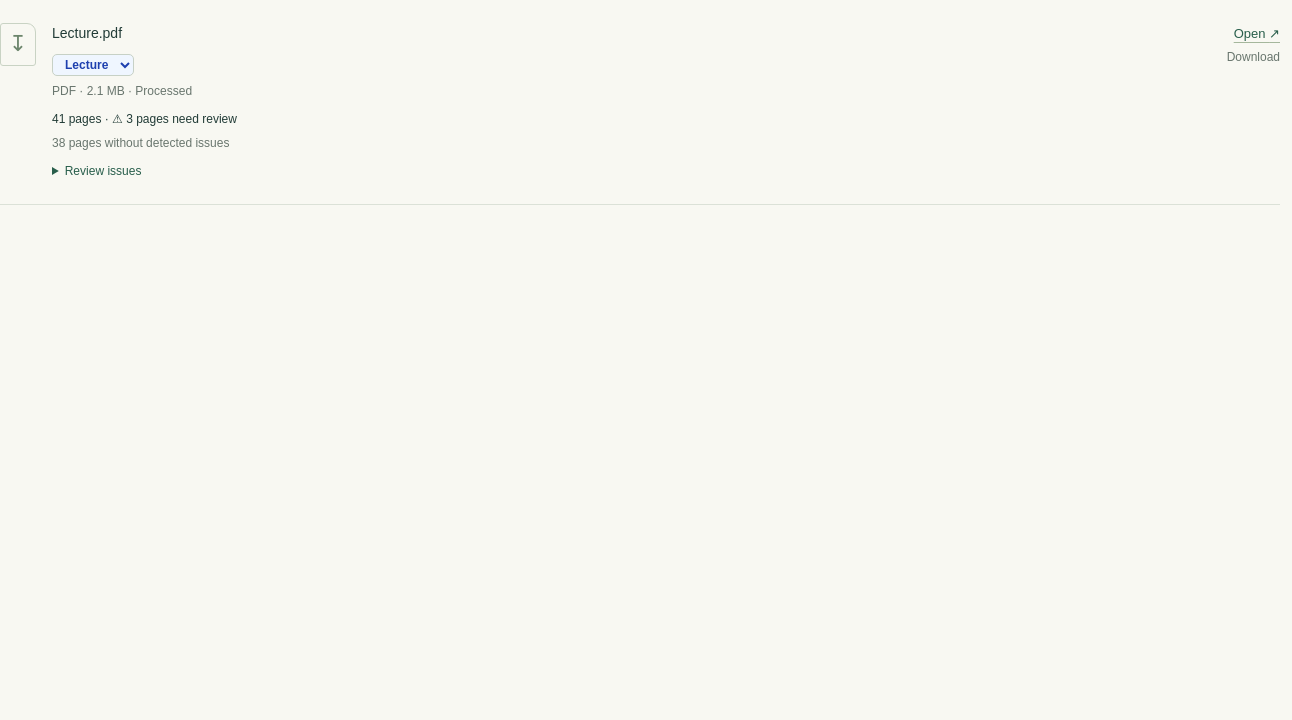
Test case: expands exact warning pages, friendly categories and safe page links then collapses
Check: the text "41 pages · ⚠ 3 pages need review" is shown, box [52,112,237,126]
Check: the text "38 pages without detected issues" is shown, box [52,136,230,150]
Click the heading "Review issues". click: (103, 171)
box: [65,164,141,178]
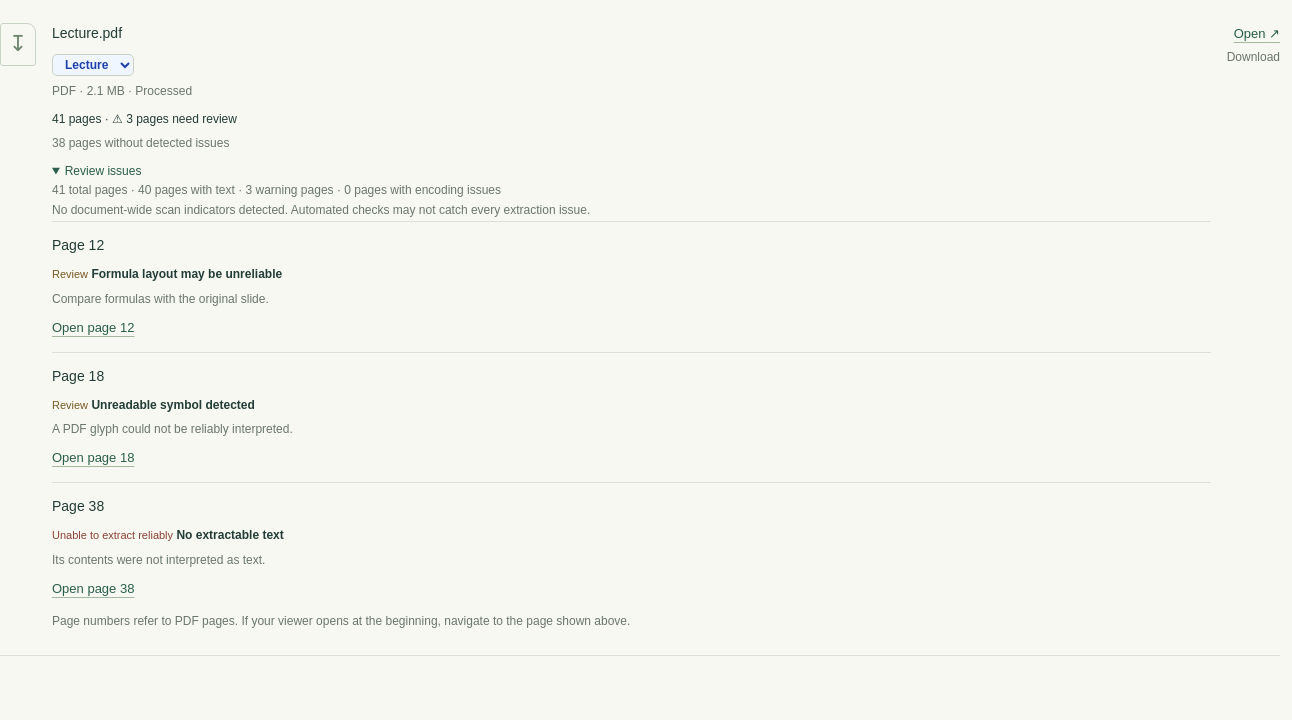
Check: the text "Formula layout may be unreliable" is shown, box [91,267,282,281]
Check: the heading "Page 18" is shown, box [52,368,104,384]
Check: the text "Unreadable symbol detected" is shown, box [91,398,255,412]
Click the heading "Review issues". click: (103, 171)
box: [65,164,141,178]
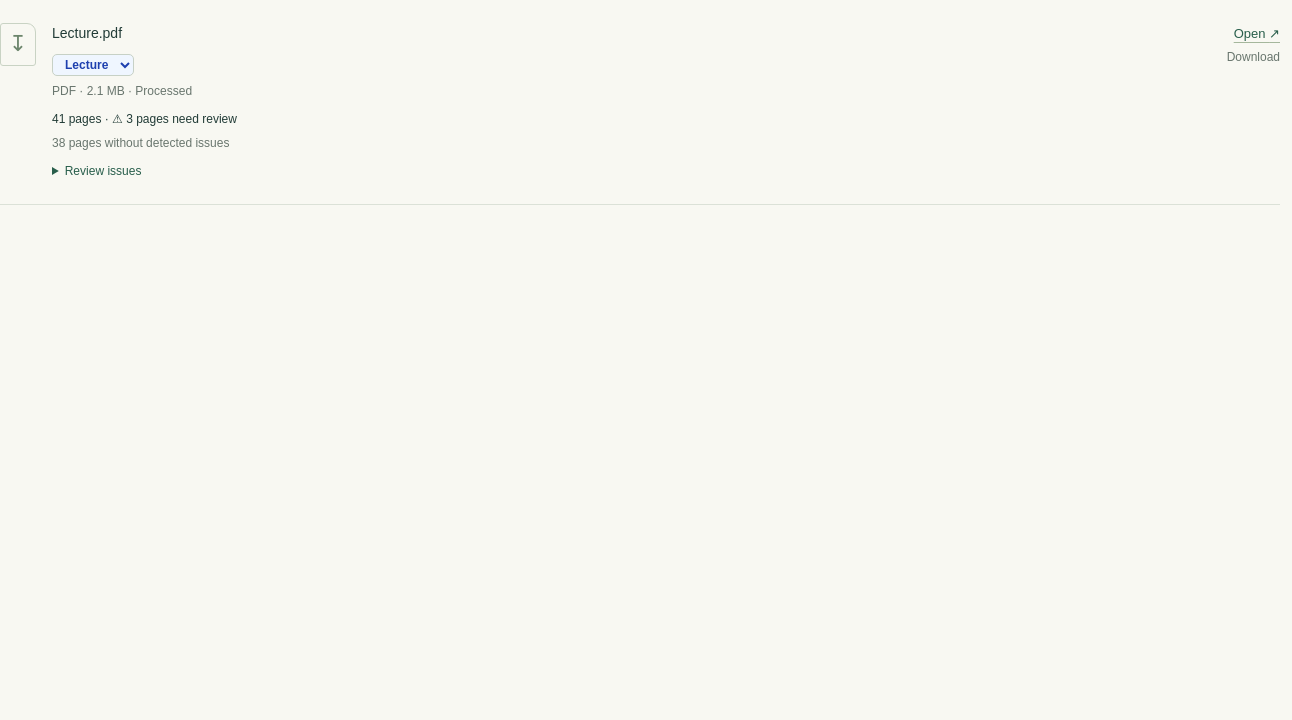
Check: the heading "Page 18" is gone
